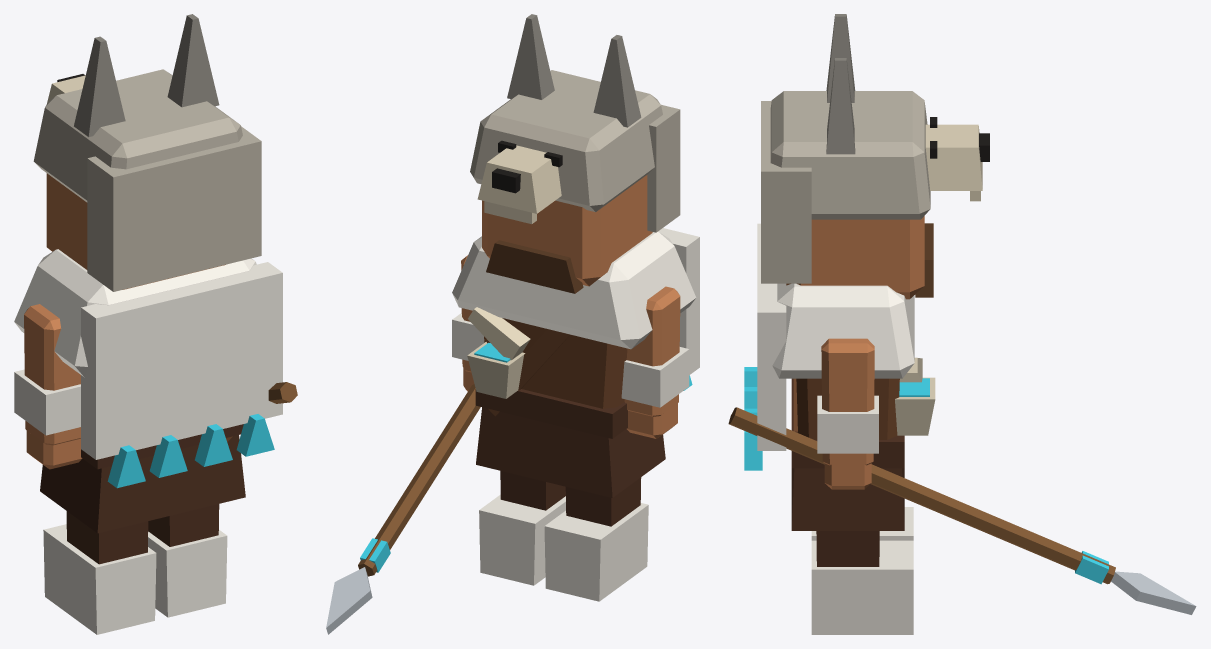
The model's file is CH_Beastmaster_WinterHunter.fbx.
3 views of the same model, side by side, from view 1: azimuth 30°, elevation 25°; view 2: azimuth 150°, elevation 25°; view 3: azimuth 270°, elevation 25° (orthographic). The views are drawn at different scales.
Parts seen in each view (by area): view 1: MantleBack, HoodBack, Hood, Skirt, BootL, Mantle, BootR, ArmL, EarL, Head, CuffL, EarR (+10 smaller); view 2: Hood, Mantle, Skirt, Head, BootL, Body, BootR, Belt, Shaft, Snout, HoodBack, ArmL (+16 smaller); view 3: Hood, Mantle, BootR, Head, HoodBack, Shaft, Skirt, ArmR, MantleBack, Snout, CuffR, Body (+10 smaller).
Boxes of the visible parts, x1,y1,x2,y2 form: MantleBack: (81, 262, 282, 459); HoodBack: (87, 126, 261, 291); Hood: (33, 69, 242, 202); Skirt: (40, 435, 245, 533); BootL: (43, 524, 156, 634); Mantle: (14, 249, 256, 377); BootR: (148, 530, 227, 617); ArmL: (24, 304, 80, 445); EarL: (74, 36, 125, 137); Head: (46, 173, 225, 289); CuffL: (14, 369, 80, 435); EarR: (167, 14, 219, 107); Hood: (470, 70, 662, 212); Mantle: (452, 231, 696, 349); Skirt: (476, 407, 665, 497); Head: (482, 175, 652, 286); BootL: (544, 503, 648, 601); Body: (484, 318, 627, 408); BootR: (479, 494, 565, 585); Belt: (475, 389, 627, 438); Shaft: (358, 384, 480, 576); Snout: (477, 145, 561, 213); HoodBack: (647, 104, 680, 232); ArmL: (624, 286, 680, 416); Hood: (770, 91, 930, 219); Mantle: (772, 283, 914, 378); BootR: (811, 540, 913, 634); Head: (786, 216, 924, 299); HoodBack: (761, 101, 811, 283); Shaft: (728, 407, 1115, 584); Skirt: (791, 468, 904, 530); ArmR: (821, 338, 874, 465); MantleBack: (757, 223, 786, 450); Snout: (925, 124, 982, 190); CuffR: (817, 395, 878, 453); Body: (796, 378, 899, 439).
Size of the model in its own units: 0.7 by 1.29 by 1.72.
